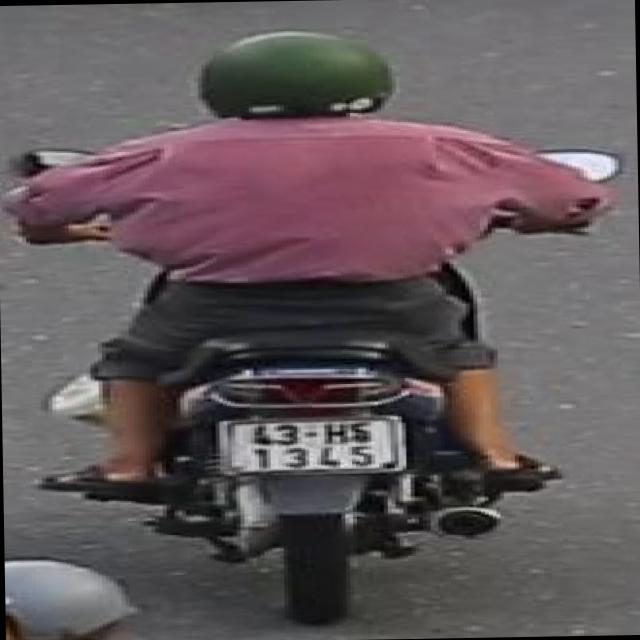LP: (220, 412, 416, 477)
helmet: (185, 24, 404, 140), (6, 556, 146, 640)
